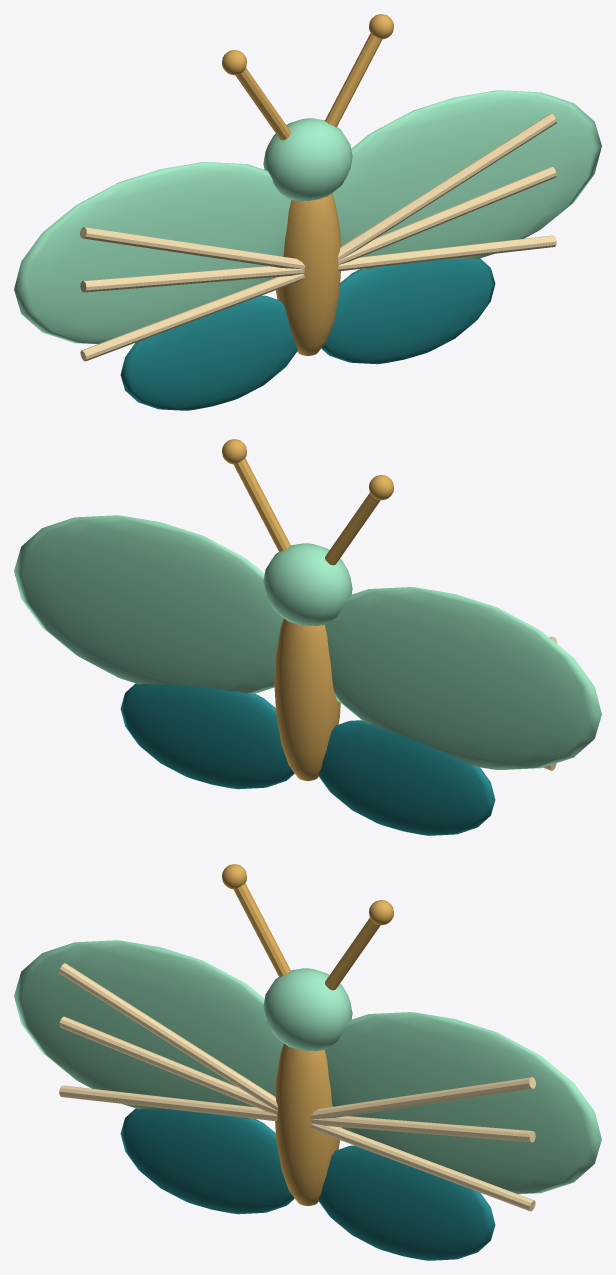
Rendered from morrow.glb.
3 renders of one model, top to bottom at view 1: azimuth 30°, elevation 25°; view 2: azimuth 150°, elevation 25°; view 3: azimuth 330°, elevation 25°, orthographic.
Visible parts, largest first — view 1: Upper wing, Upper wing.001, Lower wing, Lower wing.001, Body, Head, Wing vein.005, Wing vein, Wing vein.004, Wing vein.002, Wing vein.003, Wing vein.001 (+2 smaller); view 2: Upper wing, Upper wing.001, Lower wing, Lower wing.001, Body, Head, Antenna.001, Antenna; view 3: Upper wing.001, Upper wing, Lower wing.001, Lower wing, Body, Head, Wing vein.002, Wing vein.003, Wing vein.001, Wing vein.005, Wing vein, Wing vein.004 (+2 smaller).
Boxes of the visible parts, bbox=[...] form: Upper wing: bbox=[14, 162, 290, 344]; Upper wing.001: bbox=[332, 90, 601, 268]; Lower wing: bbox=[120, 295, 297, 410]; Lower wing.001: bbox=[321, 258, 495, 364]; Body: bbox=[276, 193, 340, 355]; Head: bbox=[263, 118, 352, 201]; Wing vein.005: bbox=[338, 113, 556, 260]; Wing vein: bbox=[80, 273, 304, 361]; Wing vein.004: bbox=[338, 166, 556, 264]; Wing vein.002: bbox=[80, 227, 304, 269]; Wing vein.003: bbox=[338, 235, 556, 271]; Wing vein.001: bbox=[80, 266, 304, 292]; Upper wing: bbox=[325, 587, 601, 770]; Upper wing.001: bbox=[14, 515, 283, 693]; Lower wing: bbox=[318, 720, 495, 835]; Lower wing.001: bbox=[120, 683, 294, 789]; Body: bbox=[274, 618, 340, 780]; Head: bbox=[263, 543, 352, 626]; Antenna.001: bbox=[233, 458, 290, 552]; Antenna: bbox=[325, 493, 380, 565]; Upper wing.001: bbox=[325, 1012, 601, 1194]; Upper wing: bbox=[14, 940, 283, 1118]; Lower wing.001: bbox=[318, 1145, 495, 1260]; Lower wing: bbox=[120, 1108, 294, 1214]; Body: bbox=[275, 1043, 339, 1205]; Head: bbox=[263, 968, 352, 1051]; Wing vein.002: bbox=[59, 963, 277, 1110]; Wing vein.003: bbox=[311, 1123, 535, 1211]; Wing vein.001: bbox=[59, 1016, 277, 1114]; Wing vein.005: bbox=[311, 1077, 535, 1119]; Wing vein: bbox=[59, 1085, 277, 1121]; Wing vein.004: bbox=[311, 1116, 535, 1142].
Size of the model in its own units: 0.8 by 0.455 by 0.09.
